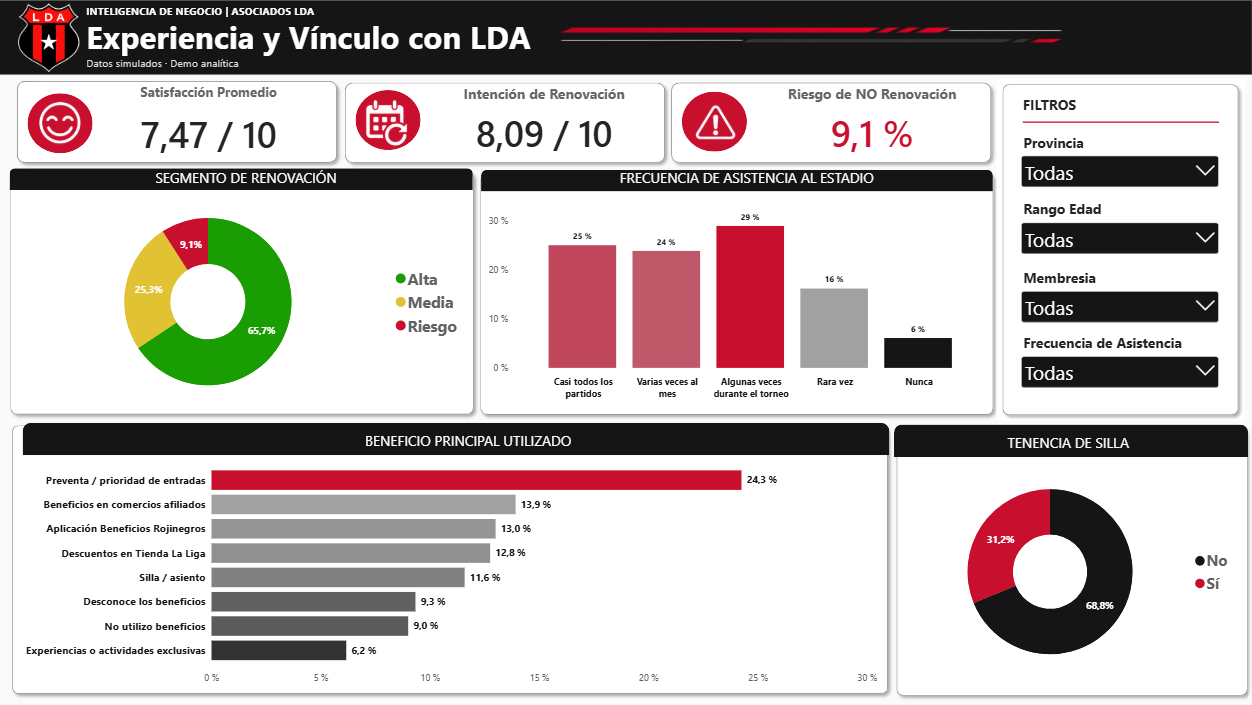

The dashboard page shown, as its layout file describes it:
{"tool":"powerbi","page":{"name":"Experiencia y Vínculo con LDA","canvas":[1920,1080],"ordinal":1},"visuals":[{"type":"shape","title":"hdhhdhth","box":[1527.9,119.3,379.4,524.9],"z":0,"group":"g1"},{"type":"group","id":"g1","title":"Grupo 1","box":[1527.9,119.3,379.4,524.9],"z":0,"group":"g9"},{"type":"shape","title":"hdhhdhth","box":[7.2,252.9,727.7,391.3],"z":0,"group":"g2"},{"type":"group","id":"g2","title":"Grupo 1","box":[7.2,252.9,727.7,391.3],"z":0,"group":"g8"},{"type":"group","id":"g3","title":"Grupo 1","box":[726.8,255.3,803.8,389.2],"z":0,"group":"g7"},{"type":"shape","title":"hdhhdhth","box":[726.8,255.3,803.8,389.2],"z":0,"group":"g3"},{"type":"group","id":"g4","title":"Grupo 2","box":[10.2,643.7,1360,429.5],"z":0},{"type":"shape","title":"hdhhdhth","box":[10.2,643.7,1360,429.5],"z":0,"group":"g5"},{"type":"group","id":"g5","title":"Grupo 1","box":[10.2,643.7,1360,429.5],"z":0,"group":"g4"},{"type":"shape","title":"hdhhdhth","box":[1365.5,644.2,555.9,429.5],"z":0,"group":"g6"},{"type":"group","id":"g6","title":"Grupo 1","box":[1365.5,644.2,555.9,429.5],"z":0,"group":"g10"},{"type":"group","id":"g7","title":"Grupo 2","box":[726.8,255.3,803.8,389.2],"z":1000},{"type":"shape","box":[15.6,257.6,710,33.5],"z":1000,"group":"g2"},{"type":"textbox","box":[200.4,257.6,355,33.5],"z":1000,"group":"g8"},{"type":"shape","box":[736,259.9,784.2,33.3],"z":1000,"group":"g3"},{"type":"shape","box":[34,648.9,1328.2,49.8],"z":1000,"group":"g5"},{"type":"shape","box":[1370.3,649.4,542.9,49.8],"z":1000,"group":"g6"},{"type":"textbox","box":[1443.1,660.7,389.4,35.6],"z":1000,"group":"g10"},{"type":"textbox","box":[513.1,661.1,410.4,31],"z":1000,"group":"g4"},{"type":"group","id":"g8","title":"Grupo 2","box":[7.2,252.9,727.7,391.3],"z":2000},{"type":"shape","box":[1021.2,116.9,508.2,140.8],"z":3000},{"type":"textbox","box":[899.1,257.5,489.1,33.4],"z":3000,"group":"g7"},{"type":"shape","box":[520.1,116.9,508.2,140.8],"z":4000},{"type":"shape","box":[16.7,114.5,508.2,143.2],"z":5000},{"type":"shape","box":[0,0,1920.7,114],"z":6000},{"type":"textbox","box":[133.6,4.8,560.7,33.4],"z":7000},{"type":"textbox","box":[133.6,21.5,734.9,64.4],"z":8000},{"type":"textbox","box":[133.6,85.9,248.1,21.5],"z":9000},{"type":"cardVisual","title":"Satisfacción Promedio","fields":{"Data":["EncuestaSociosTable.Satisfaccion_Promedio_Texto"]},"box":[152.7,126.5,329.3,112.1],"z":10000},{"type":"cardVisual","title":"Intención de Renovación","fields":{"Data":["EncuestaSociosTable.Intencion_Renovacion_Promedio_Texto"]},"box":[660.9,126.5,348.3,121.7],"z":11000},{"type":"cardVisual","fields":{"Data":["EncuestaSociosTable.Provincia_Mas_Frecuente"]},"box":[1500.7,205.2,405.6,138.4],"z":12000},{"type":"shape","box":[42,143.5,100,92.3],"z":13000},{"type":"clusteredColumnChart","fields":{"Category":["EncuestaSociosTable.Frecuencia_Estadio"],"Y":["EncuestaSociosTable.%_Respuestas_Frecuencia"]},"box":[732.5,295.9,796.9,336.4],"z":14000},{"type":"donutChart","fields":{"Category":["EncuestaSociosTable.Segmento_Renovacion"],"Y":["EncuestaSociosTable.Total_Respuestas"]},"box":[16.7,293.5,711,338.8],"z":15000},{"type":"shape","box":[544.6,137.8,100,92.3],"z":16000},{"type":"shape","box":[1045,139.7,100,92.3],"z":17000},{"type":"group","id":"g9","title":"Grupo 2","box":[1527.9,119.3,379.4,524.9],"z":18000},{"type":"image","box":[7.2,0,133.6,121.7],"z":19000},{"type":"group","id":"g10","title":"Grupo 2","box":[1365.5,644.2,555.9,429.5],"z":20000},{"type":"slicer","fields":{"Values":["EncuestaSociosTable.Provincia"]},"box":[1560.4,203.6,312.6,116.9],"z":21000},{"type":"slicer","fields":{"Values":["EncuestaSociosTable.Rango_Edad"]},"box":[1560.4,303.8,312.6,116.9],"z":22000},{"type":"slicer","fields":{"Values":["EncuestaSociosTable.Membresia"]},"box":[1560.4,408.8,312.6,116.9],"z":23000},{"type":"slicer","fields":{"Values":["EncuestaSociosTable.Frecuencia_Estadio"]},"box":[1560.4,509,312.6,116.9],"z":24000},{"type":"image","box":[844.6,0,796.9,114.5],"z":25000},{"type":"cardVisual","title":"Riesgo de NO Renovación","fields":{"Data":["EncuestaSociosTable.%_En_Riesgo"]},"box":[1161.9,126.5,348.3,121.7],"z":26000},{"type":"textbox","box":[1567.5,145.5,272,42.9],"z":27000},{"type":"shape","box":[1567.5,174.2,300.6,23.9],"z":28000},{"type":"clusteredBarChart","fields":{"Category":["EncuestaSociosTable.Beneficio_Corto"],"Y":["EncuestaSociosTable.%_Respuestas_Beneficio"]},"box":[21.5,696.7,1338.5,372.2],"z":29000},{"type":"donutChart","fields":{"Category":["EncuestaSociosTable.Tiene_Silla"],"Y":["EncuestaSociosTable.Total_Respuestas"]},"box":[1371.9,694.3,536.5,361.5],"z":30000},{"type":"image","box":[54.9,121.7,76,133],"z":31000},{"type":"image","box":[555.9,121.7,76,133],"z":32000},{"type":"image","box":[1057,121.7,76,133],"z":33000}]}

Visuals, with their boxes in screenshot pixels (x1, y1, x2, y2), scaled from the page's 1920x1080 canvas onto the 1252x705 screenshot:
"hdhhdhth" shape: [x1=996, y1=78, x2=1244, y2=421]
"Grupo 1" group: [x1=996, y1=78, x2=1244, y2=421]
"hdhhdhth" shape: [x1=5, y1=165, x2=479, y2=421]
"Grupo 1" group: [x1=5, y1=165, x2=479, y2=421]
"Grupo 1" group: [x1=474, y1=167, x2=998, y2=421]
"hdhhdhth" shape: [x1=474, y1=167, x2=998, y2=421]
"Grupo 2" group: [x1=7, y1=420, x2=893, y2=701]
"hdhhdhth" shape: [x1=7, y1=420, x2=893, y2=701]
"Grupo 1" group: [x1=7, y1=420, x2=893, y2=701]
"hdhhdhth" shape: [x1=890, y1=421, x2=1251, y2=701]
"Grupo 1" group: [x1=890, y1=421, x2=1251, y2=701]
"Grupo 2" group: [x1=474, y1=167, x2=998, y2=421]
shape: [x1=10, y1=168, x2=473, y2=190]
textbox: [x1=131, y1=168, x2=362, y2=190]
shape: [x1=480, y1=170, x2=991, y2=191]
shape: [x1=22, y1=424, x2=888, y2=456]
shape: [x1=894, y1=424, x2=1248, y2=456]
textbox: [x1=941, y1=431, x2=1195, y2=455]
textbox: [x1=335, y1=432, x2=602, y2=452]
"Grupo 2" group: [x1=5, y1=165, x2=479, y2=421]
shape: [x1=666, y1=76, x2=997, y2=168]
textbox: [x1=586, y1=168, x2=905, y2=190]
shape: [x1=339, y1=76, x2=671, y2=168]
shape: [x1=11, y1=75, x2=342, y2=168]
shape: [x1=0, y1=0, x2=1251, y2=74]
textbox: [x1=87, y1=3, x2=453, y2=25]
textbox: [x1=87, y1=14, x2=566, y2=56]
textbox: [x1=87, y1=56, x2=249, y2=70]
"Satisfacción Promedio" cardVisual: [x1=100, y1=83, x2=314, y2=156]
"Intención de Renovación" cardVisual: [x1=431, y1=83, x2=658, y2=162]
cardVisual - EncuestaSociosTable.Provincia_Mas_Frecuente: [x1=979, y1=134, x2=1243, y2=224]
shape: [x1=27, y1=94, x2=93, y2=154]
clusteredColumnChart - EncuestaSociosTable.Frecuencia_Estadio x EncuestaSociosTable.%_Respuestas_Frecuencia: [x1=478, y1=193, x2=997, y2=413]
donutChart - EncuestaSociosTable.Segmento_Renovacion x EncuestaSociosTable.Total_Respuestas: [x1=11, y1=192, x2=475, y2=413]
shape: [x1=355, y1=90, x2=420, y2=150]
shape: [x1=681, y1=91, x2=747, y2=151]
"Grupo 2" group: [x1=996, y1=78, x2=1244, y2=421]
image: [x1=5, y1=0, x2=92, y2=79]
"Grupo 2" group: [x1=890, y1=421, x2=1251, y2=701]
slicer - EncuestaSociosTable.Provincia: [x1=1018, y1=133, x2=1221, y2=209]
slicer - EncuestaSociosTable.Rango_Edad: [x1=1018, y1=198, x2=1221, y2=275]
slicer - EncuestaSociosTable.Membresia: [x1=1018, y1=267, x2=1221, y2=343]
slicer - EncuestaSociosTable.Frecuencia_Estadio: [x1=1018, y1=332, x2=1221, y2=409]
image: [x1=551, y1=0, x2=1070, y2=75]
"Riesgo de NO Renovación" cardVisual: [x1=758, y1=83, x2=985, y2=162]
textbox: [x1=1022, y1=95, x2=1200, y2=123]
shape: [x1=1022, y1=114, x2=1218, y2=129]
clusteredBarChart - EncuestaSociosTable.Beneficio_Corto x EncuestaSociosTable.%_Respuestas_Beneficio: [x1=14, y1=455, x2=887, y2=698]
donutChart - EncuestaSociosTable.Tiene_Silla x EncuestaSociosTable.Total_Respuestas: [x1=895, y1=453, x2=1244, y2=689]
image: [x1=36, y1=79, x2=85, y2=166]
image: [x1=362, y1=79, x2=412, y2=166]
image: [x1=689, y1=79, x2=739, y2=166]
